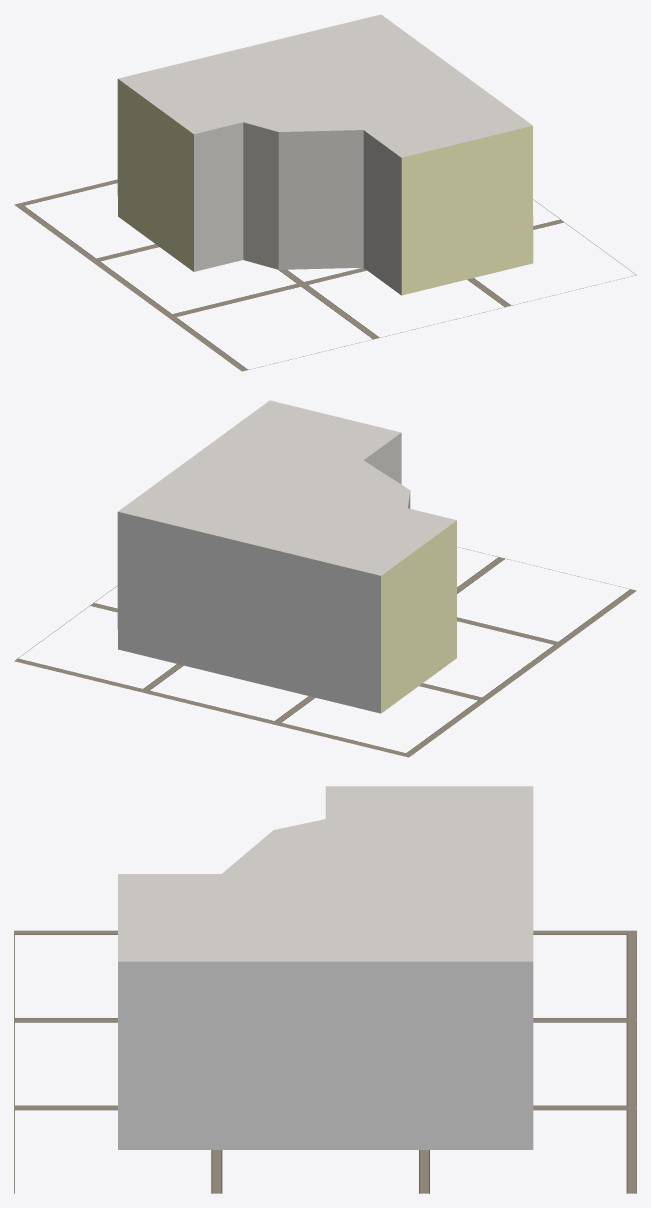
The model's file is Cracked_Curve_Inner_2x2_1_Mid.glb.
The picture shows the model from 3 angles, top to bottom: view 1: azimuth 30°, elevation 25°; view 2: azimuth 150°, elevation 25°; view 3: azimuth 270°, elevation 25°; orthographic projection. The views are drawn at different scales.
Parts seen in each view (by area): view 1: Cracked_Curve_Inner_2x2_1_Mid, Floor; view 2: Cracked_Curve_Inner_2x2_1_Mid, Floor; view 3: Cracked_Curve_Inner_2x2_1_Mid, Floor.
Part boxes in pixels (box(x1,y1,x2,y2)): Cracked_Curve_Inner_2x2_1_Mid: box(117, 14, 533, 295); Floor: box(14, 179, 636, 371); Cracked_Curve_Inner_2x2_1_Mid: box(117, 400, 456, 713); Floor: box(14, 547, 636, 757); Cracked_Curve_Inner_2x2_1_Mid: box(118, 786, 533, 1149); Floor: box(14, 930, 636, 1193).
Bounding box in the file's own units: 300 × 100 × 300.
Materials: 4 (1 with a texture image).
